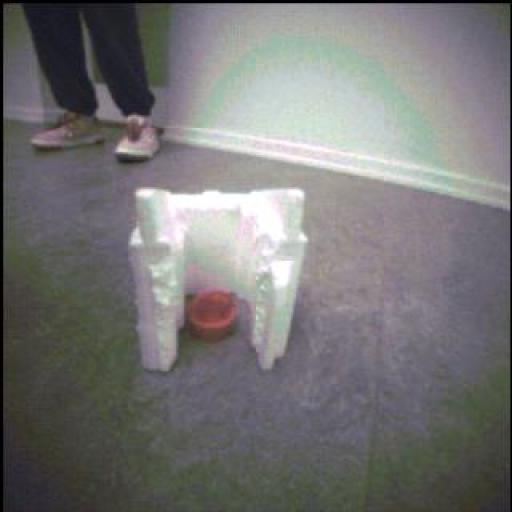Bucket: (188, 289, 241, 345)
